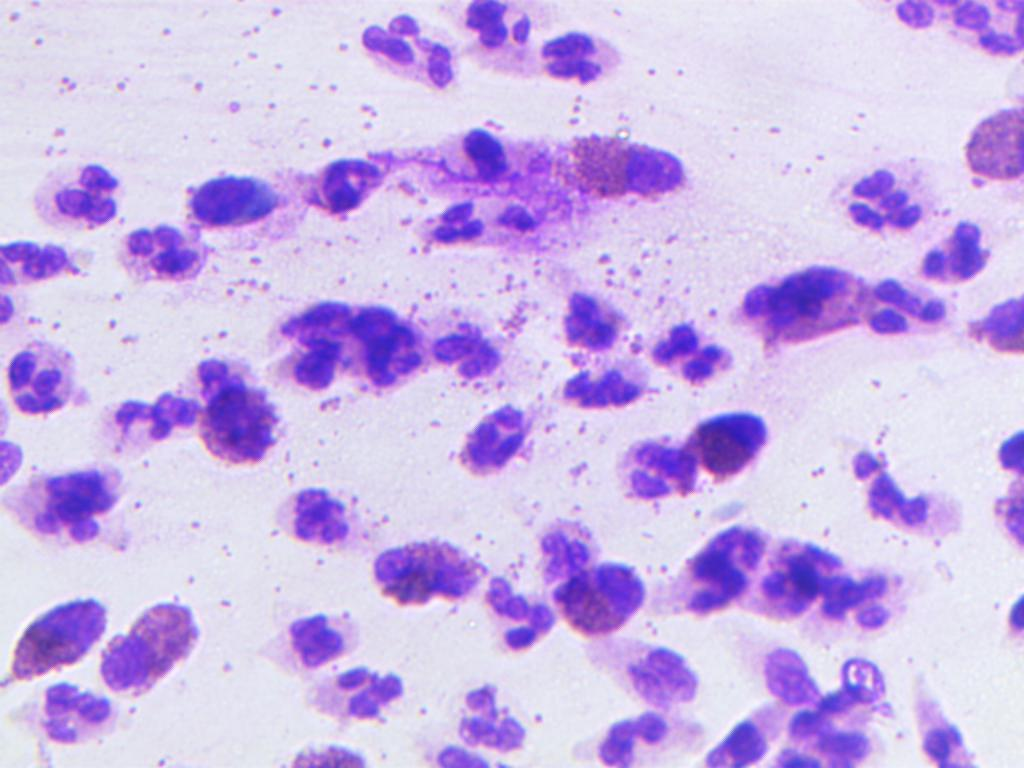eosinophil: (565, 107, 700, 213), (98, 584, 200, 698), (365, 536, 484, 617), (3, 585, 103, 681), (551, 559, 654, 641), (677, 408, 803, 475), (945, 96, 1024, 199), (274, 742, 373, 768)
epithelial: (25, 461, 124, 545), (973, 287, 1024, 373)
lymphocyte: (189, 166, 285, 235)
neutrophil: (655, 509, 828, 627), (262, 285, 436, 397), (713, 258, 882, 348), (848, 431, 967, 553), (781, 653, 895, 768), (172, 360, 286, 472), (350, 10, 483, 98), (423, 376, 548, 466), (238, 472, 363, 562), (893, 0, 1024, 71), (822, 153, 931, 237), (415, 306, 520, 387), (574, 714, 719, 768), (9, 679, 133, 742), (26, 160, 126, 236), (110, 215, 210, 291), (479, 565, 564, 654), (250, 596, 358, 666), (590, 636, 698, 706), (305, 667, 413, 737), (432, 680, 540, 750), (2, 335, 100, 411), (0, 230, 106, 297), (410, 198, 557, 246), (443, 111, 521, 199), (862, 268, 957, 340), (816, 570, 911, 642), (691, 698, 782, 768), (650, 322, 741, 388), (550, 281, 634, 352), (108, 398, 207, 458), (546, 366, 675, 410), (620, 440, 705, 504), (309, 147, 391, 213), (901, 708, 990, 768), (529, 28, 623, 82), (913, 222, 997, 282), (536, 511, 600, 589), (461, 0, 534, 61)
